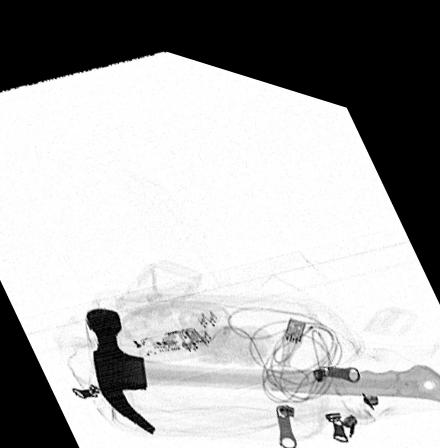Hammer: (84, 300, 440, 424)
